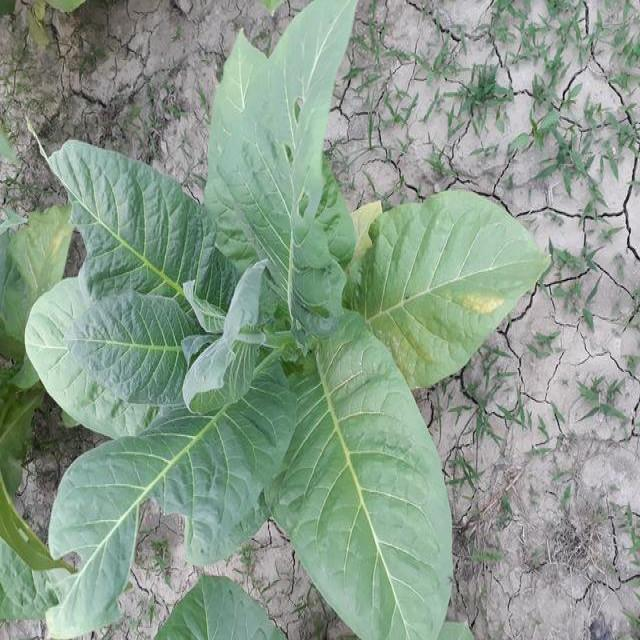crop: (23, 16, 550, 640)
